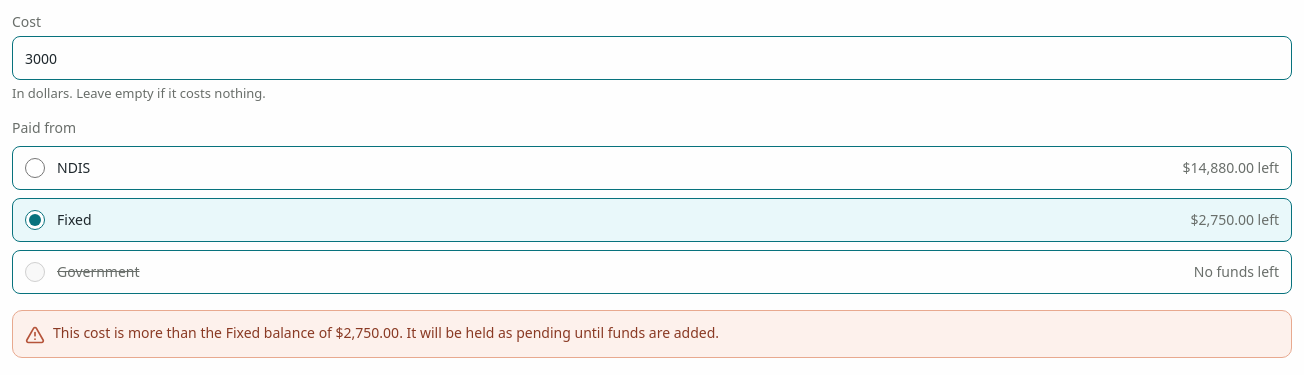
Test: [FAM-UI-08][AC-04] a cost above the balance › [FAM-UI-08][AC-04] compares to the chosen bucket, and the warning goes when the cost is cleared
expect the text "held as pending" is shown: met, box x1=399 y1=323 x2=719 y2=342
Step 1. Clear the field labelled "Cost" → (652, 58), box x1=12 y1=36 x2=1292 y2=80
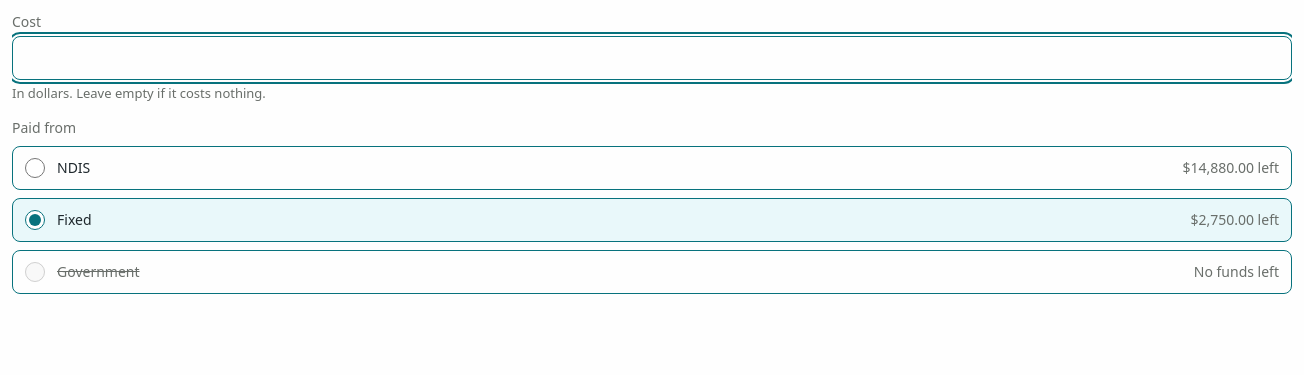
expect the text "held as pending" is gone: met
